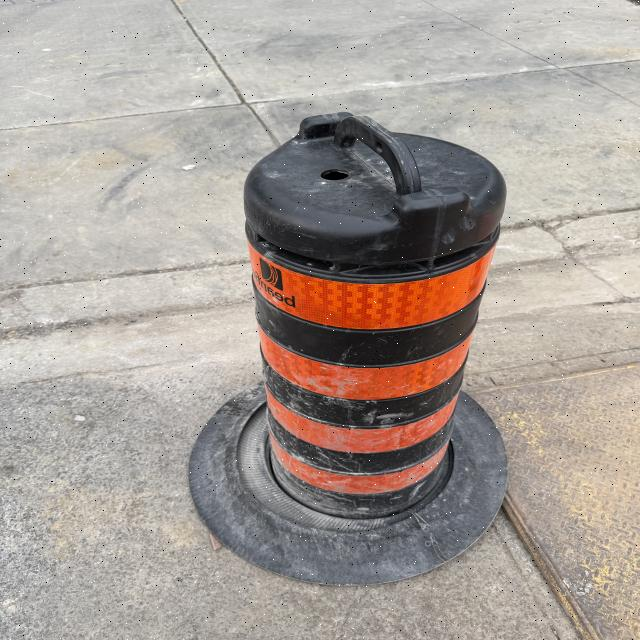Teraffic Barrel: (192, 113, 506, 582)
